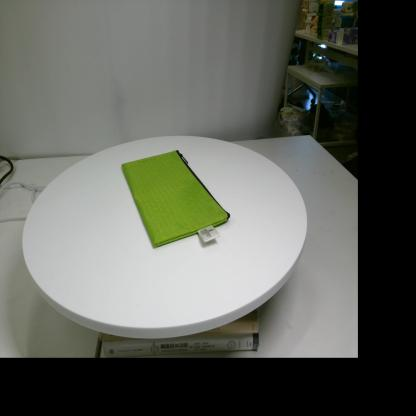Stationery: (122, 150, 230, 247)
